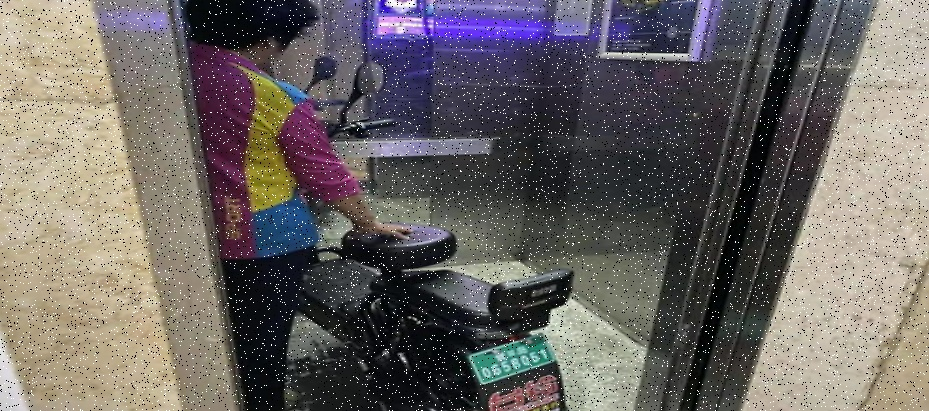ebike: (295, 60, 574, 411)
person: (195, 2, 391, 407)
